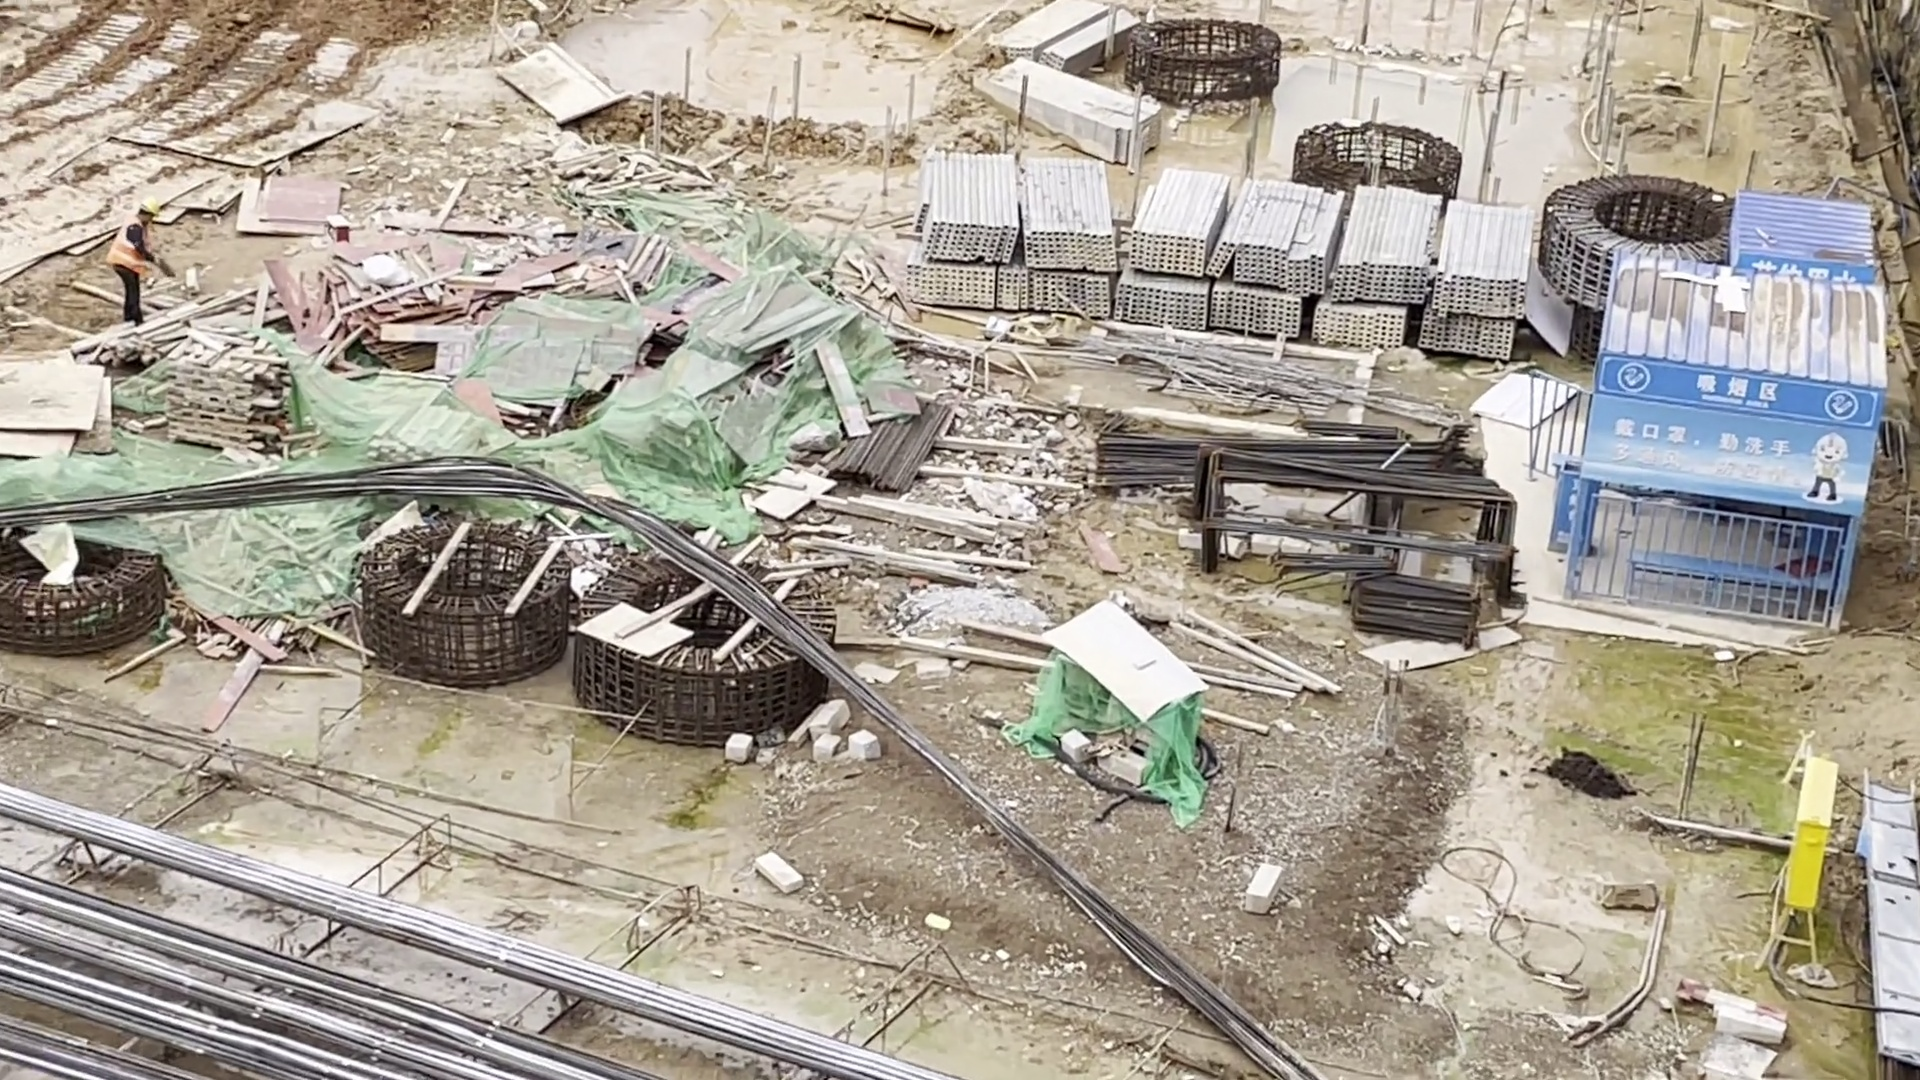board: (291, 244, 665, 385)
ebox: (1773, 747, 1847, 967)
helmet: (136, 196, 165, 219)
person: (109, 194, 165, 325)
rebar: (33, 837, 529, 1079)
scaffold: (906, 144, 1530, 357), (990, 4, 1165, 148)
slogan: (1599, 359, 1870, 503)
vest: (113, 226, 155, 282)
